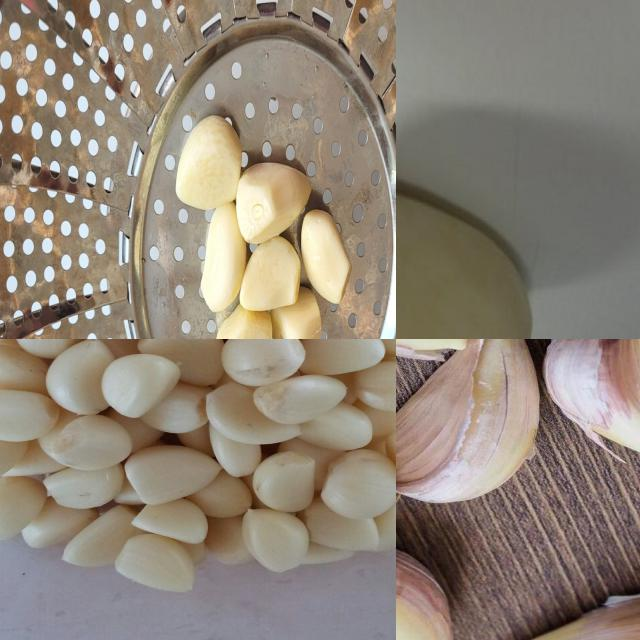garlic: (0, 339, 395, 596), (172, 105, 352, 338), (396, 173, 544, 338), (396, 339, 531, 503), (458, 543, 639, 639), (539, 339, 639, 488), (396, 502, 457, 639)
